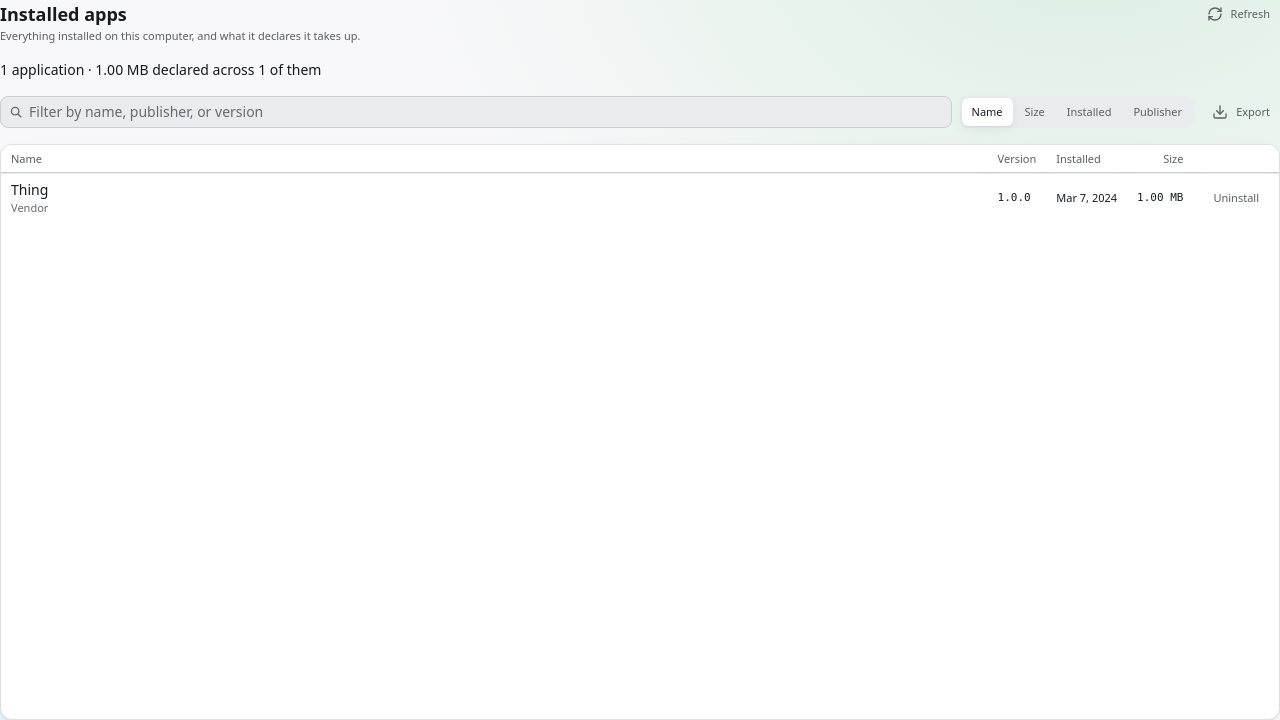
AppsScreen row menu › routes uninstall from the menu through the same confirmation as the row button
Expected: the heading "Installed apps" is shown, [0, 2, 127, 26]
Right-click the text "Thing" at {"x": 640, "y": 198}, box [1, 174, 1279, 222]
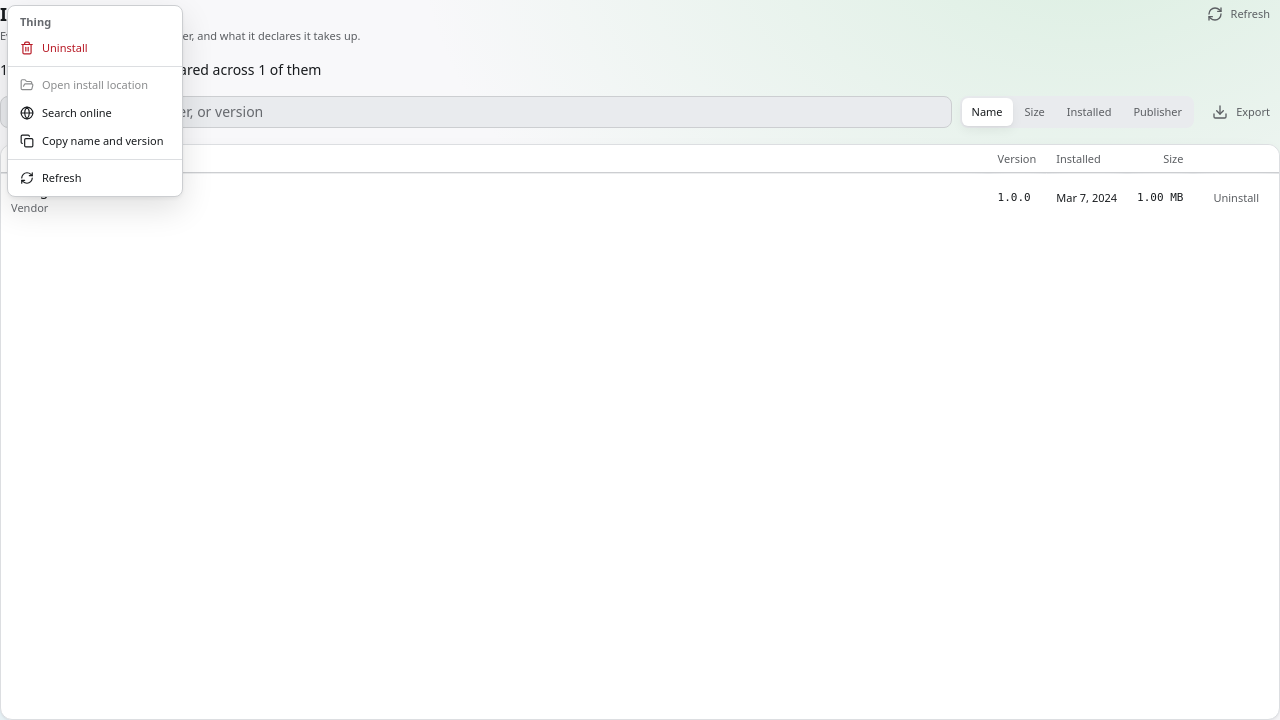
Click the menu item "Uninstall" at {"x": 54, "y": 48}, box [20, 40, 88, 55]
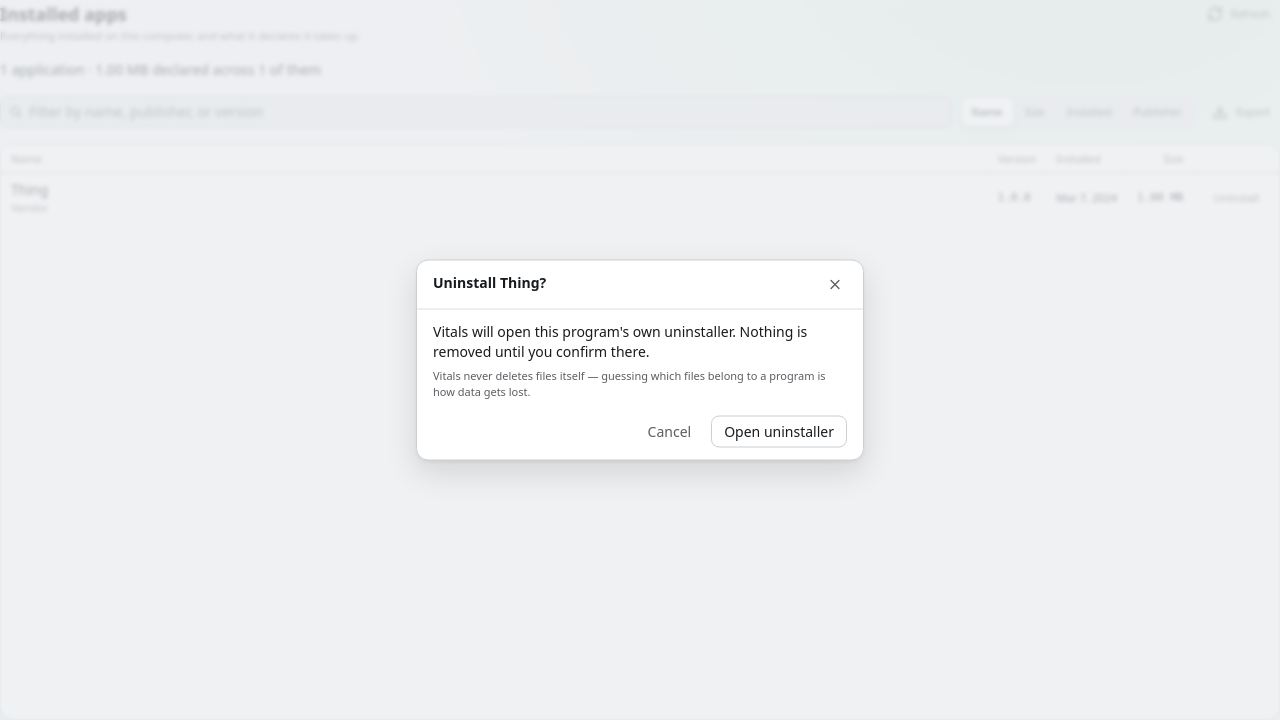
Expected: the dialog is shown, [416, 260, 864, 460]
